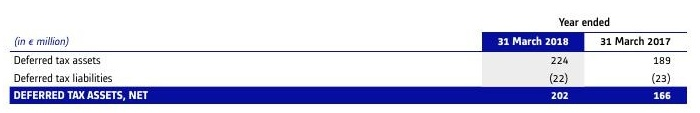table: (0, 0, 700, 113)
